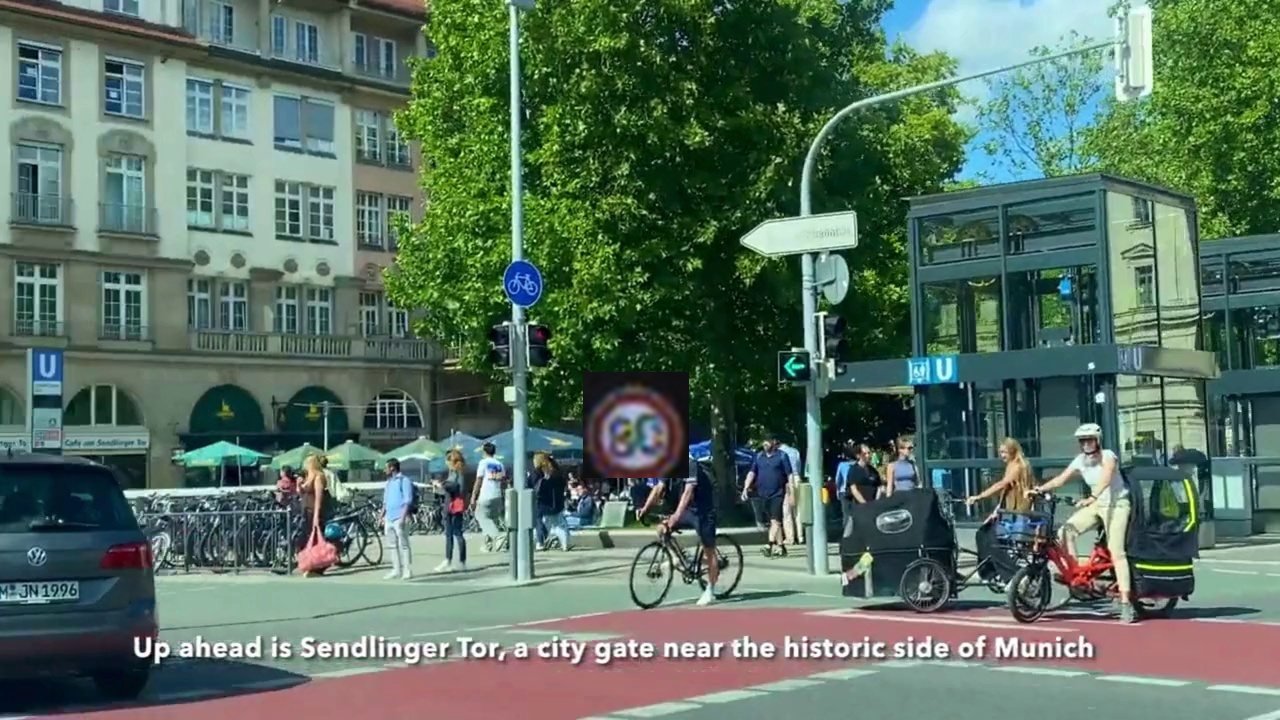Speed 80: (583, 372, 689, 478)
